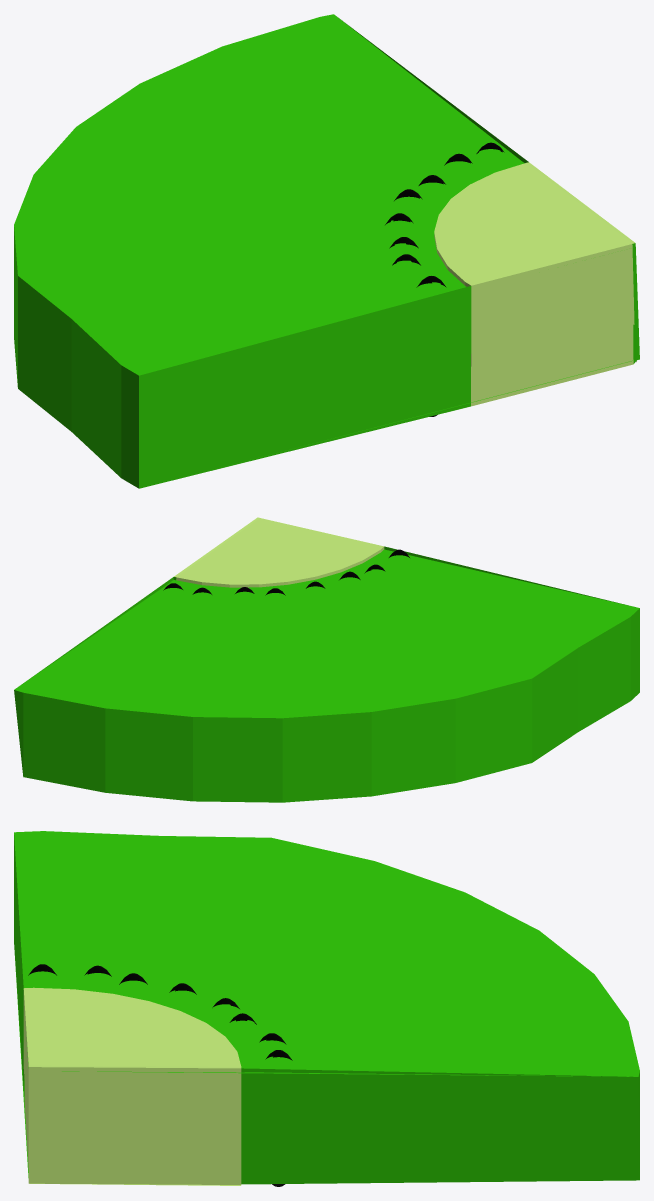
File: kiwi_slice_3.glb
3 views of the same model, one above another, from view 1: azimuth 30°, elevation 25°; view 2: azimuth 150°, elevation 25°; view 3: azimuth 270°, elevation 25° (orthographic). The views are drawn at different scales.
Visible parts, largest first — view 1: Cylinder.003; view 2: Cylinder.003; view 3: Cylinder.003.
Part boxes in pixels (<box>): Cylinder.003: <box>14,14,639,488</box>; Cylinder.003: <box>14,517,639,802</box>; Cylinder.003: <box>14,831,639,1186</box>.
Size of the model in its own units: 0.9753 by 0.2503 by 1.05.
